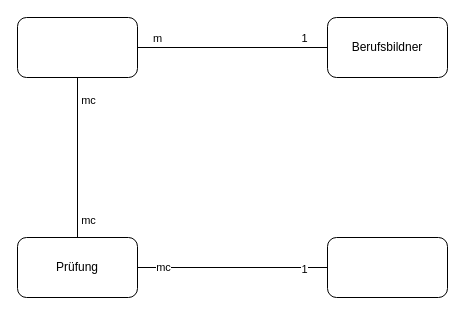
Some shapes in this 465 by 315 pixel diagram are drawn without their labels. Each missing label, with the box of its shape:
Lernender: (16, 16, 138, 78)
Semester: (326, 236, 448, 298)
